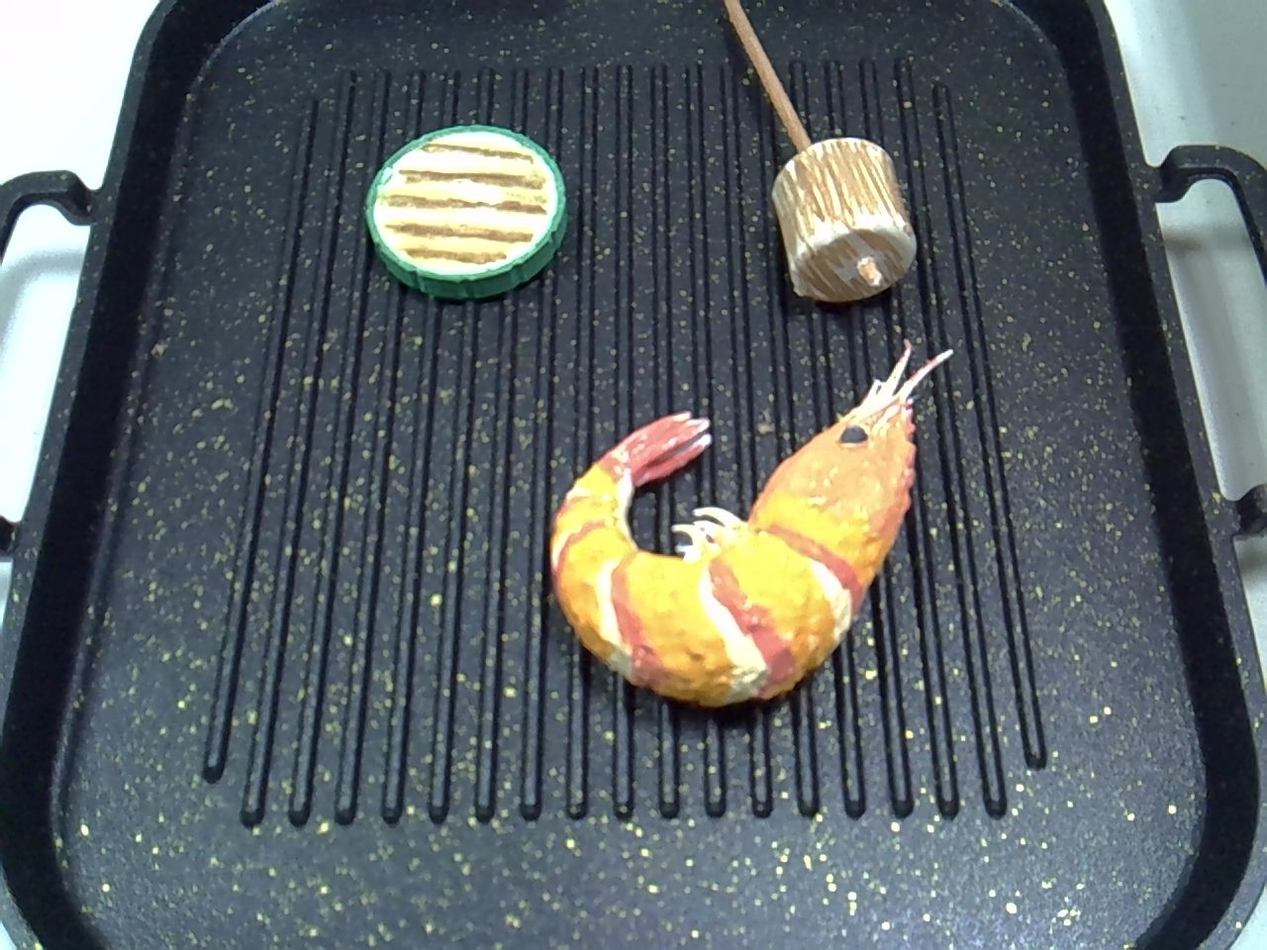marshmallow_cooked: (681, 0, 944, 302)
shrimp_cooked: (522, 309, 966, 726)
zucchini_cooked: (344, 96, 578, 304)
